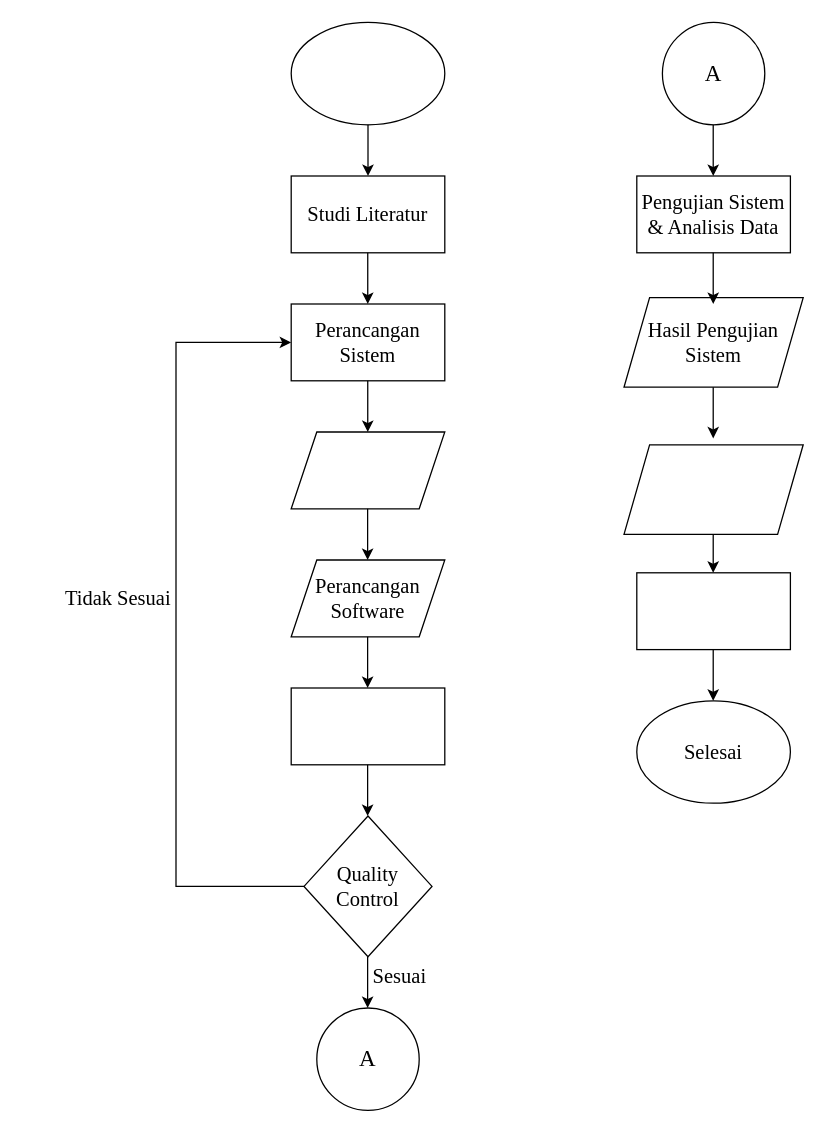
The diagram is 826 pixels wide and 1133 high, and some of its shapes have lost their labels. Each missing label, with the centre of its shape:
Catat Hasi l: [713,611]
Hasi l Ana lisis Sistem: [713,489]
Integrasi Rancangan: [367,726]
Mulai: [367,73]
Perancangan Hardware: [367,470]
